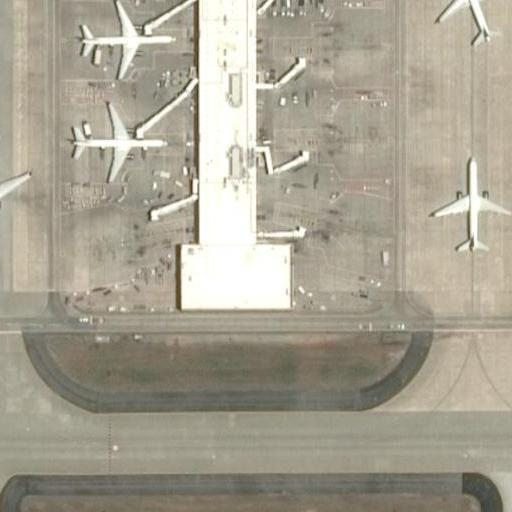Aircraft: (430, 158, 510, 255), (71, 101, 166, 182), (75, 1, 171, 74), (435, 0, 509, 49), (0, 132, 24, 251)
